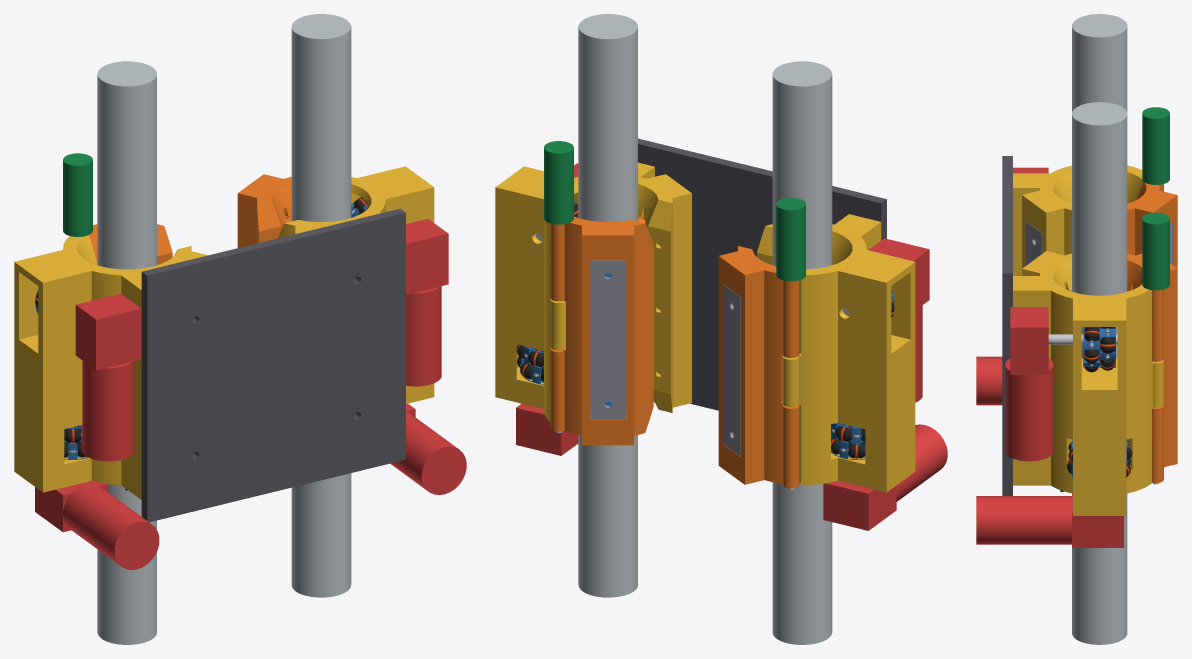
The model's file is cart-sleeves-v3.glb.
3 renders of one model, left to right at view 1: azimuth 30°, elevation 25°; view 2: azimuth 150°, elevation 25°; view 3: azimuth 270°, elevation 25°, orthographic. The views are drawn at different scales.
Parts seen in each view (by area): view 1: base_plate, hand_B_sleeve, track_pipe_C, track_pipe_B, hand_B_roll_motor, hand_B_drive_motor, hand_C_sleeve, hand_B_drive_gearbox, hand_C_roll_motor, hand_C_drive_motor, hand_C_jaw, hand_C_drive_gearbox (+3 smaller); view 2: hand_B_sleeve, hand_C_sleeve, track_pipe_C, track_pipe_B, hand_C_jaw, base_plate, hand_B_jaw, hand_C_p60_cap, hand_B_p60_cap, hand_B_roll_gearbox, hand_C_roll_gearbox, hand_B_roll_motor (+4 smaller); view 3: hand_C_sleeve, track_pipe_C, hand_B_sleeve, hand_C_jaw, track_pipe_B, hand_C_roll_motor, hand_C_drive_motor, base_plate, hand_C_drive_gearbox, hand_B_jaw, hand_C_roll_gearbox, hand_C_jaw_motor (+8 smaller).
Part boxes in pixels (x1=…): base_plate: x1=141, y1=208, x2=405, y2=522; hand_B_sleeve: x1=14, y1=235, x2=207, y2=499; track_pipe_C: x1=291, y1=14, x2=351, y2=597; track_pipe_B: x1=97, y1=61, x2=156, y2=644; hand_B_roll_motor: x1=63, y1=484, x2=159, y2=569; hand_B_drive_motor: x1=82, y1=360, x2=134, y2=461; hand_C_sleeve: x1=278, y1=166, x2=434, y2=403; hand_B_drive_gearbox: x1=75, y1=293, x2=141, y2=370; hand_C_roll_motor: x1=390, y1=411, x2=466, y2=494; hand_C_drive_motor: x1=406, y1=286, x2=441, y2=386; hand_C_jaw: x1=237, y1=174, x2=291, y2=247; hand_C_drive_gearbox: x1=406, y1=218, x2=448, y2=294; hand_B_sleeve: x1=757, y1=214, x2=915, y2=492; hand_C_sleeve: x1=495, y1=162, x2=691, y2=421; track_pipe_C: x1=578, y1=14, x2=637, y2=597; track_pipe_B: x1=772, y1=61, x2=832, y2=644; hand_C_jaw: x1=550, y1=216, x2=653, y2=445; base_plate: x1=638, y1=138, x2=886, y2=410; hand_B_jaw: x1=718, y1=246, x2=799, y2=488; hand_C_p60_cap: x1=590, y1=260, x2=626, y2=419; hand_B_p60_cap: x1=722, y1=284, x2=740, y2=456; hand_B_roll_gearbox: x1=823, y1=481, x2=896, y2=530; hand_C_roll_gearbox: x1=516, y1=403, x2=578, y2=455; hand_B_roll_motor: x1=896, y1=424, x2=947, y2=501; hand_C_sleeve: x1=1013, y1=251, x2=1163, y2=515; track_pipe_C: x1=1072, y1=102, x2=1127, y2=644; hand_B_sleeve: x1=1013, y1=165, x2=1143, y2=275; hand_C_jaw: x1=1127, y1=253, x2=1177, y2=482; track_pipe_B: x1=1072, y1=14, x2=1127, y2=111; hand_C_roll_motor: x1=976, y1=496, x2=1071, y2=544; hand_C_drive_motor: x1=1005, y1=358, x2=1053, y2=461; base_plate: x1=1002, y1=156, x2=1012, y2=495; hand_C_drive_gearbox: x1=1010, y1=307, x2=1048, y2=374; hand_B_jaw: x1=1127, y1=182, x2=1177, y2=268; hand_C_roll_gearbox: x1=1072, y1=493, x2=1123, y2=547; hand_C_jaw_motor: x1=1142, y1=212, x2=1169, y2=271.
Size of the model in its own units: 242 by 330 by 116.
